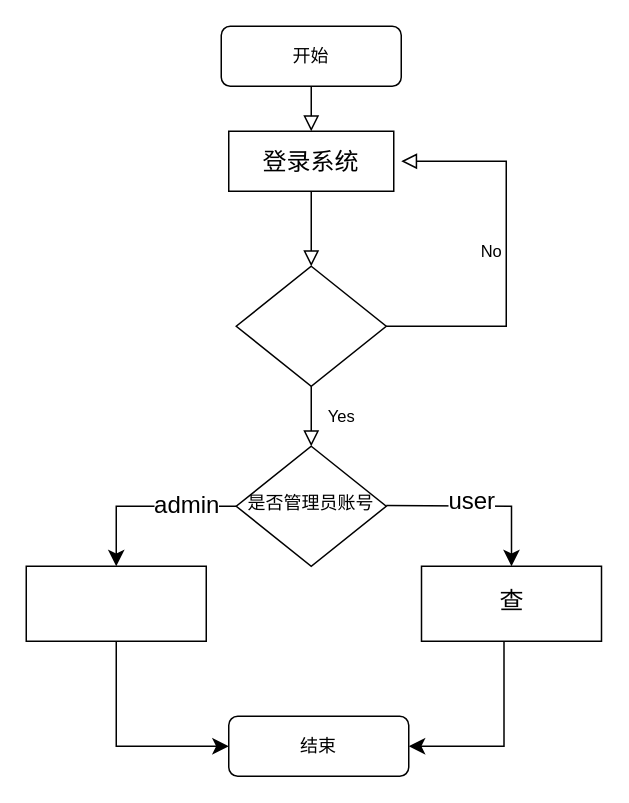
Image size: 629x803. Some labels were removed from this diagram. Here are the shapes that lost their labels. From the top down, the box of each, then its label:
(235, 265, 386, 386): 是否登录成功
(25, 565, 206, 641): 增删改查
